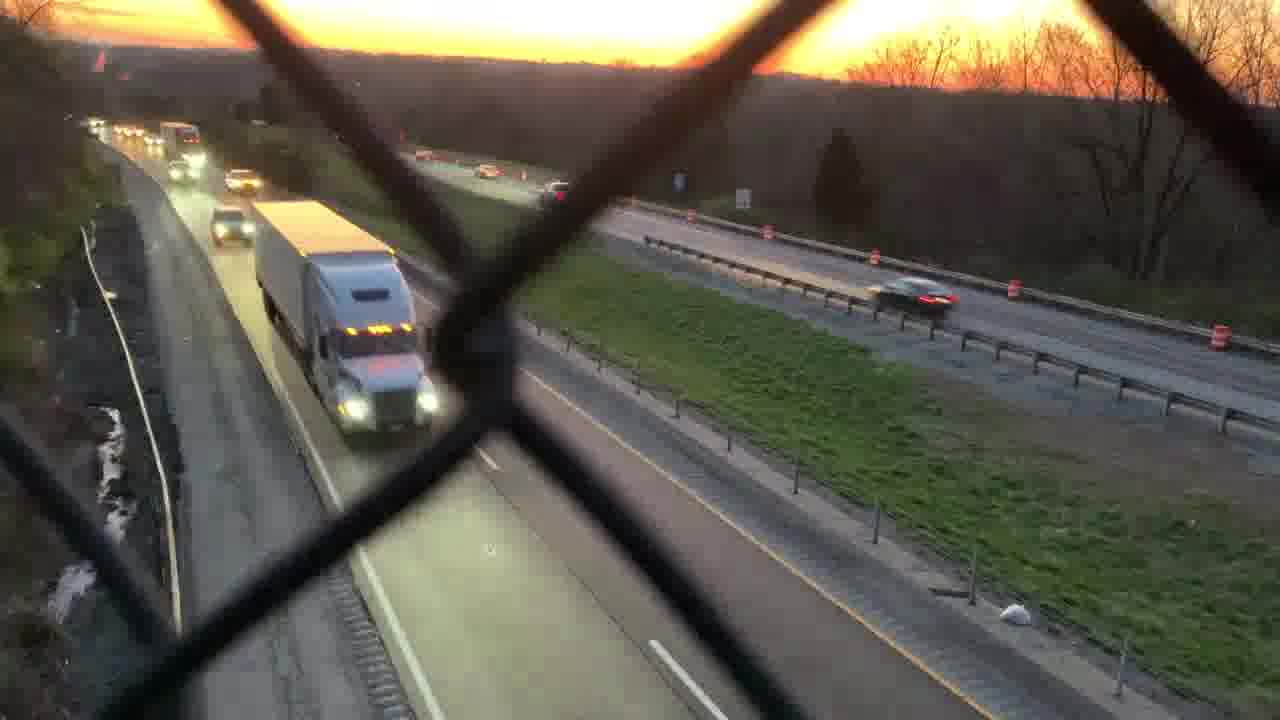heavyTruck: (249, 197, 454, 438)
smallCar: (869, 273, 957, 317)
